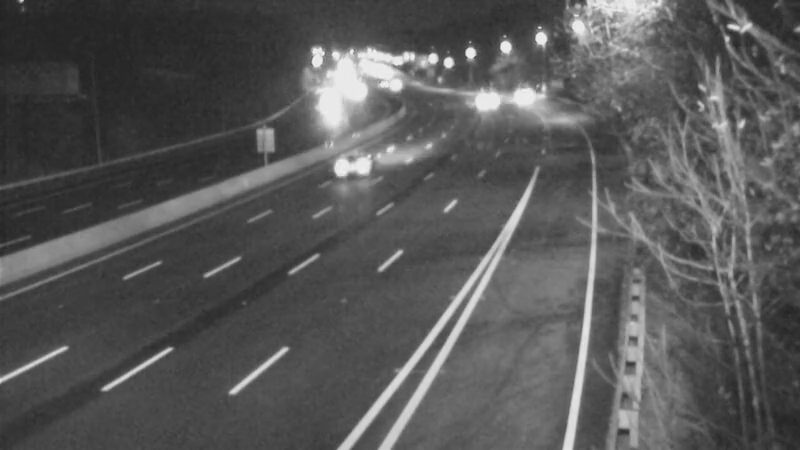vehicle: (315, 122, 395, 202), (495, 76, 545, 126), (461, 73, 511, 123)
